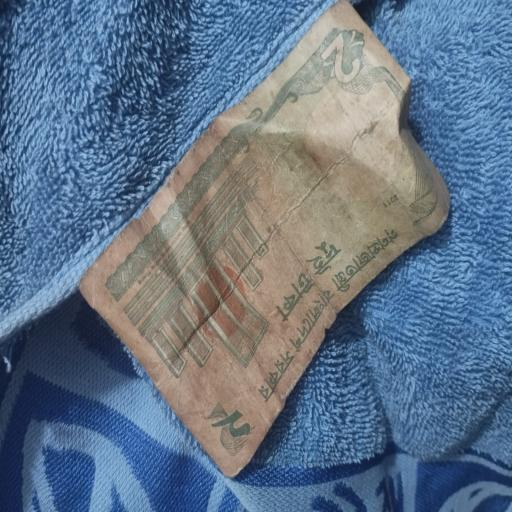2taka: (81, 3, 452, 480)
